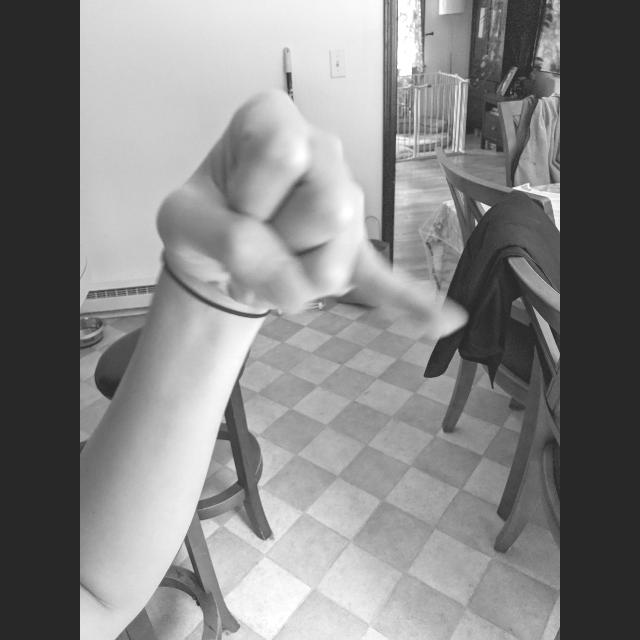J: (145, 83, 478, 355)
